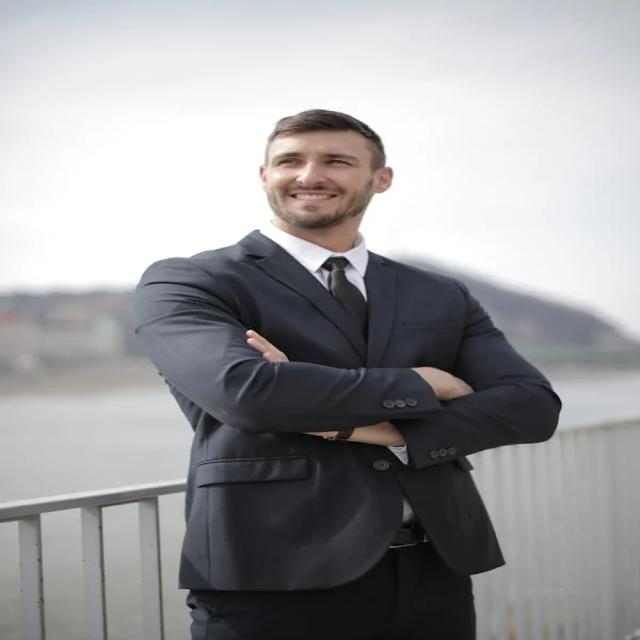Real human 2: (105, 100, 592, 640)
